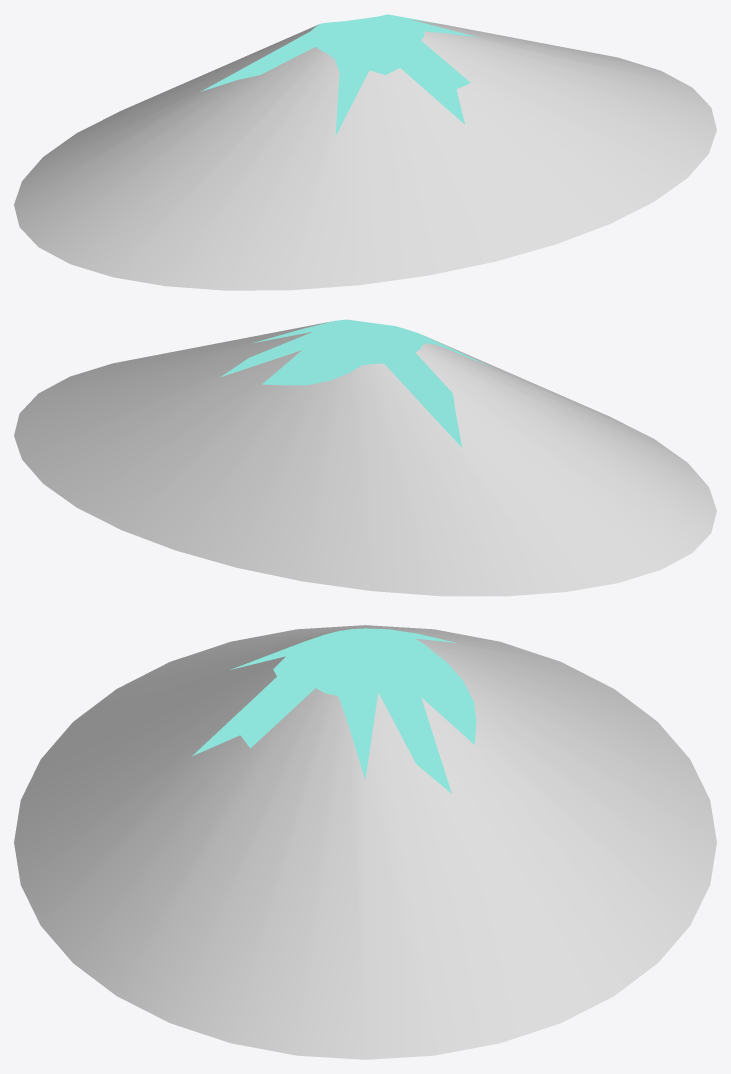
The model's file is SnowMoundsolid.fbx.
3 renders of one model, top to bottom at view 1: azimuth 30°, elevation 25°; view 2: azimuth 150°, elevation 25°; view 3: azimuth 270°, elevation 25°, orthographic. The views are drawn at different scales.
Parts seen in each view (by area): view 1: Circle; view 2: Circle; view 3: Circle.
Boxes of the visible parts, x1,y1,x2,y2 form: Circle: (14, 14, 716, 290); Circle: (14, 319, 716, 596); Circle: (14, 625, 716, 1059).
Bounding box in the file's own units: 836 × 163 × 571.
